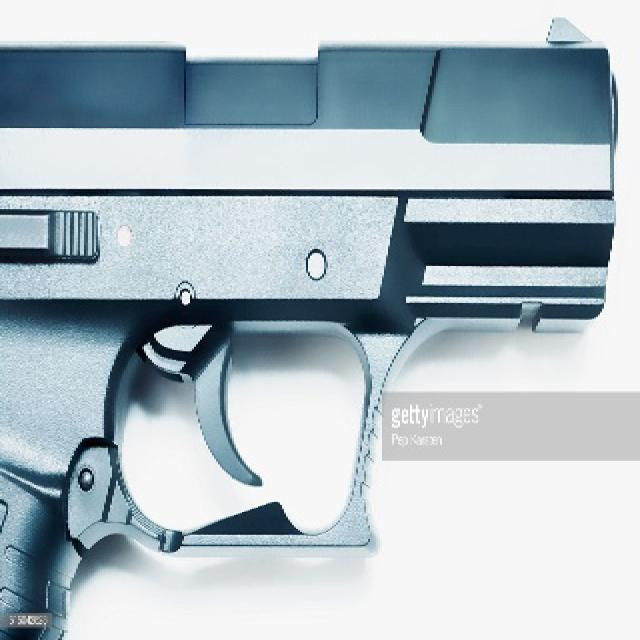handgun: (1, 15, 621, 638)
